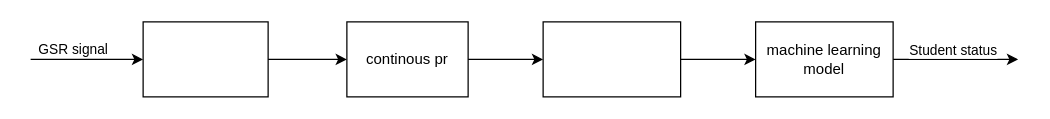
This 1050x119 diagram has some shape labels left out. The centre of each missing label's shape, as x and y in pixels:
"Feature extraction" goes at (611,59).
"Filtering" goes at (205,59).
